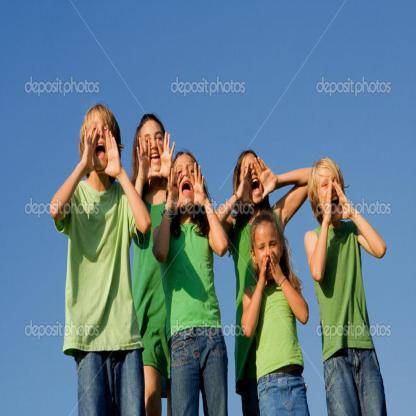face: (88, 119, 117, 169), (255, 223, 282, 276), (142, 124, 169, 175), (318, 169, 342, 223), (175, 152, 198, 208), (241, 153, 266, 203)
